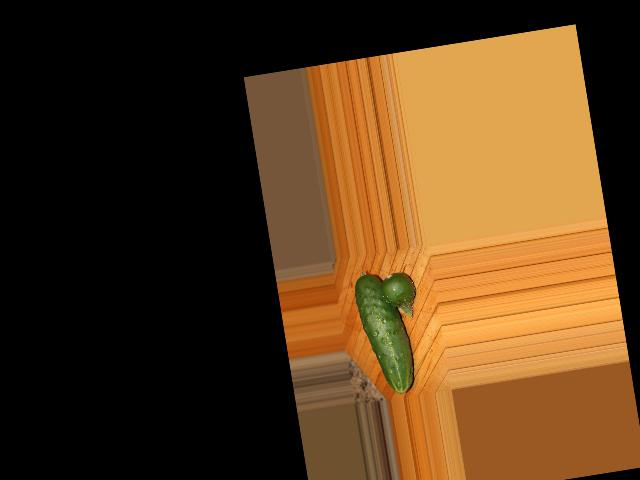cucumber: (352, 269, 418, 398)
